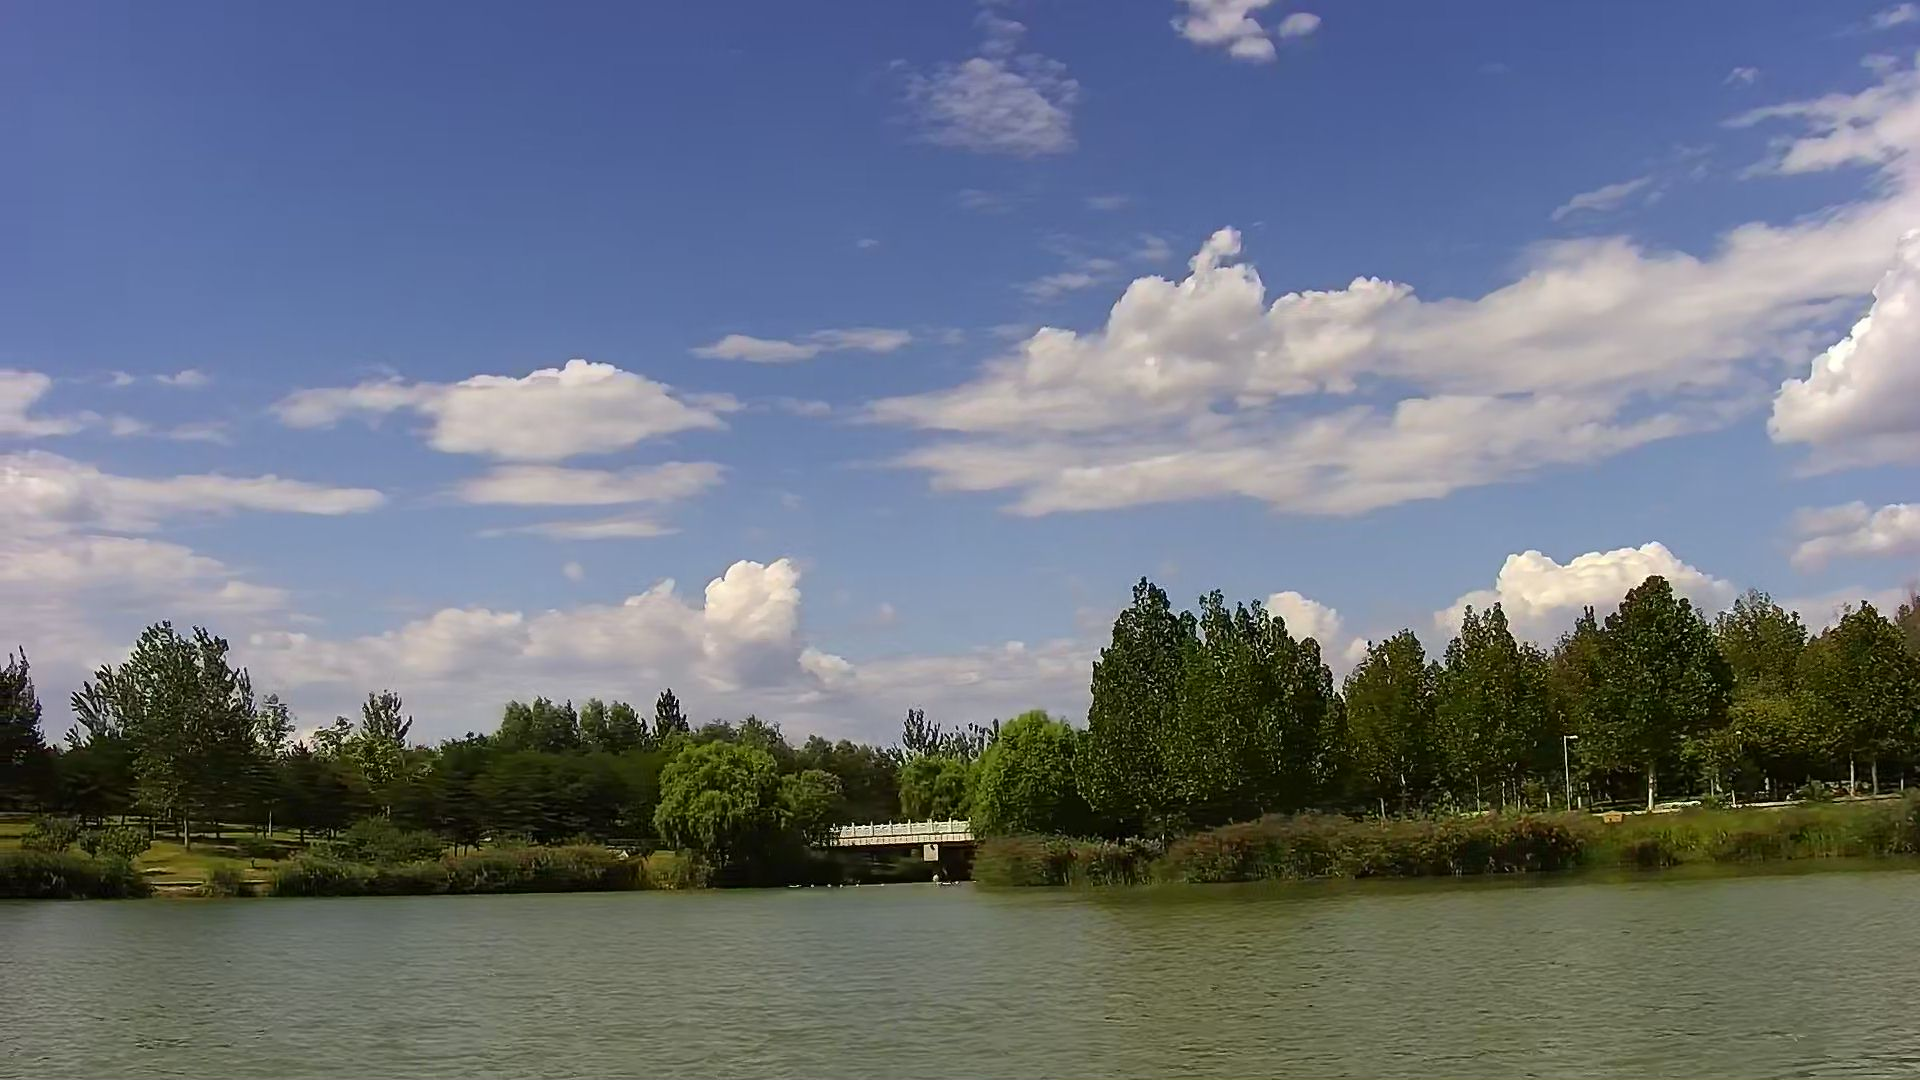bridge: (839, 814, 967, 884)
